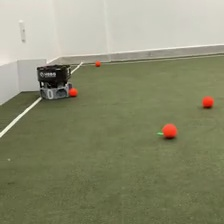ball: (162, 122, 178, 139), (201, 94, 214, 108), (68, 85, 78, 97), (94, 59, 102, 67)
robot: (35, 63, 73, 101)
